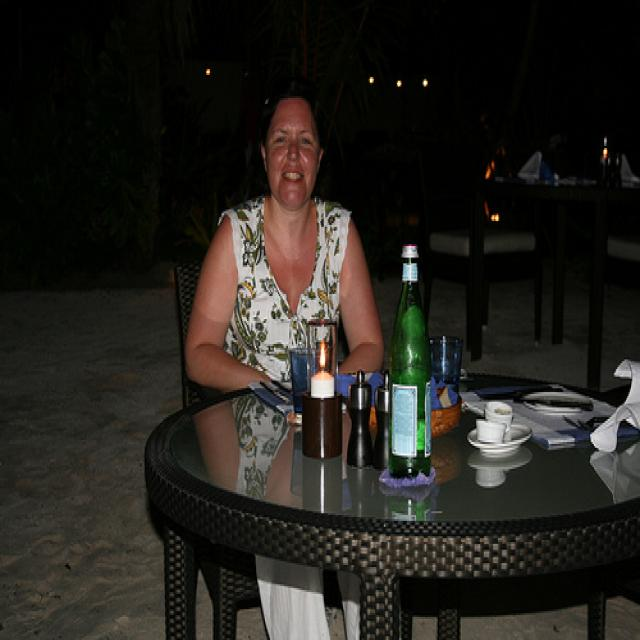Bottle: (378, 239, 442, 509)
People: (229, 79, 394, 423)
Table: (142, 357, 640, 640)
